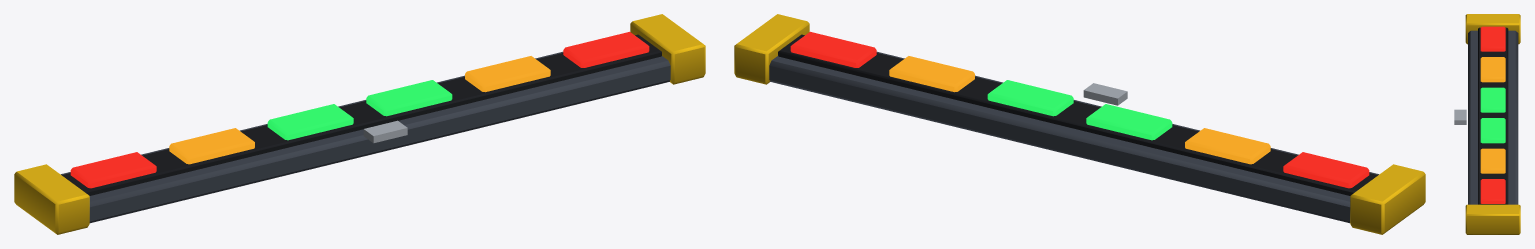
The model's file is warnlight_docking_guide_bar.glb.
3 views of the same model, side by side, from view 1: azimuth 30°, elevation 25°; view 2: azimuth 150°, elevation 25°; view 3: azimuth 270°, elevation 25° (orthographic). The views are drawn at different scales.
Parts seen in each view (by area): view 1: warnlight_docking_guide_bar; view 2: warnlight_docking_guide_bar; view 3: warnlight_docking_guide_bar.
Boxes of the visible parts, x1,y1,x2,y2 form: warnlight_docking_guide_bar: [14, 14, 705, 234]; warnlight_docking_guide_bar: [734, 14, 1425, 234]; warnlight_docking_guide_bar: [1454, 14, 1520, 234].
Size of the model in its own units: 1.9 by 0.098 by 0.265.
